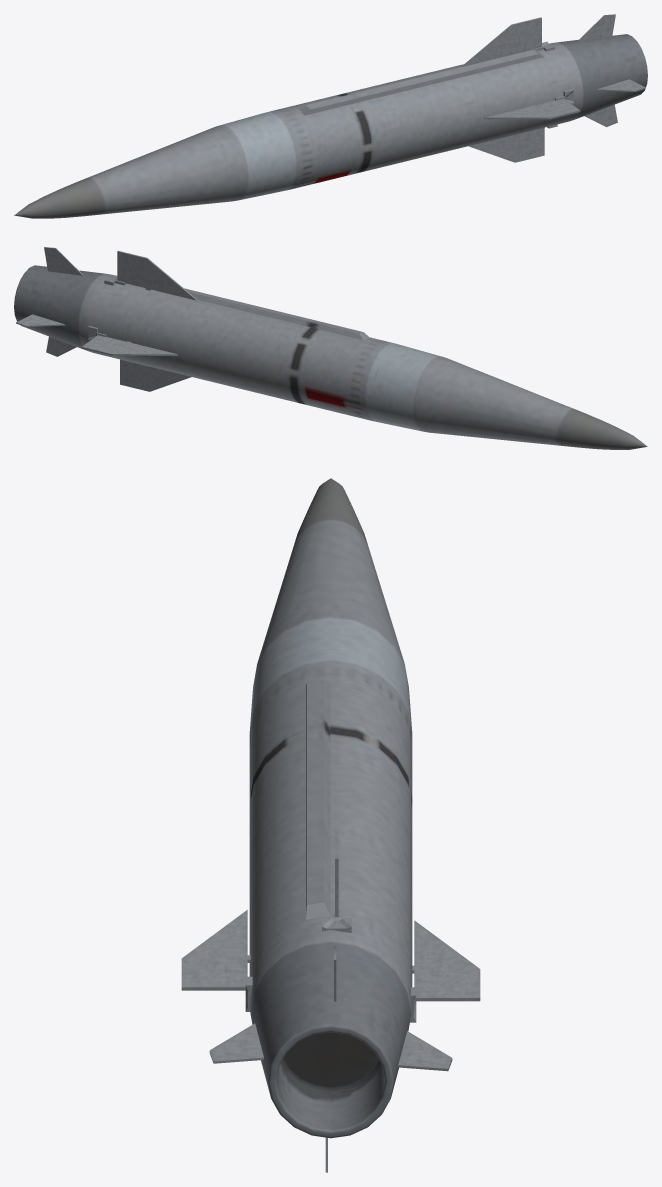
File: Kinzal_Low.fbx
3 views of the same model, one above another, from view 1: azimuth 30°, elevation 25°; view 2: azimuth 150°, elevation 25°; view 3: azimuth 270°, elevation 25° (orthographic). The views are drawn at different scales.
Parts seen in each view (by area): view 1: Kinzal_Low; view 2: Kinzal_Low; view 3: Kinzal_Low.
Boxes of the visible parts, x1,y1,x2,y2 form: Kinzal_Low: (14, 14, 647, 218); Kinzal_Low: (14, 247, 647, 449); Kinzal_Low: (181, 478, 480, 1172).
Bounding box in the file's own units: 1754 × 367 × 367.
